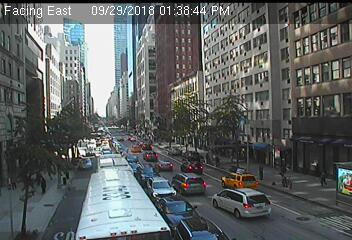car: (76, 173, 170, 240), (213, 188, 271, 220), (155, 198, 200, 229), (174, 218, 228, 240), (96, 154, 134, 185), (222, 170, 257, 192), (171, 174, 207, 195), (147, 176, 175, 202), (134, 165, 158, 185), (181, 160, 203, 175), (154, 160, 173, 172), (142, 151, 157, 162), (129, 163, 141, 175), (184, 150, 198, 160), (125, 154, 138, 164), (79, 158, 91, 168), (167, 147, 181, 155), (116, 146, 128, 154), (131, 144, 141, 153), (86, 139, 95, 149), (85, 147, 95, 154), (101, 149, 112, 155), (141, 144, 151, 150)
